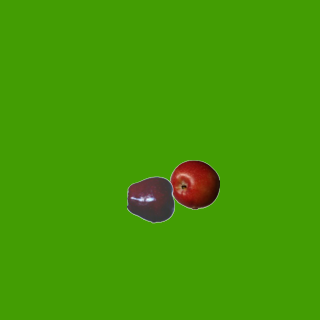Apple Braeburn: (169, 159, 219, 209)
Apple Red Delicious: (126, 174, 176, 224)
